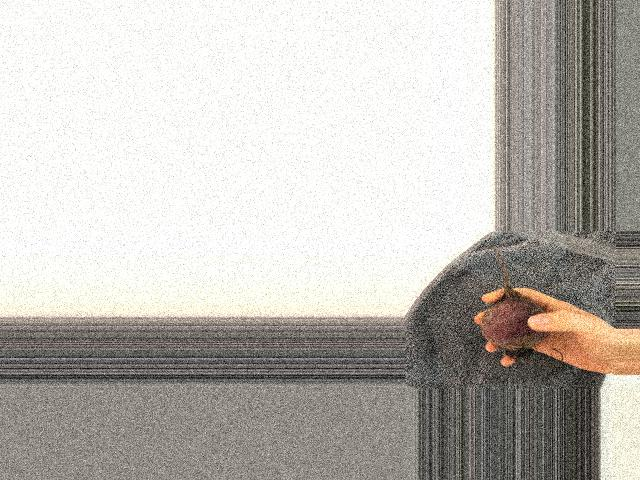beet: (479, 246, 548, 356)
